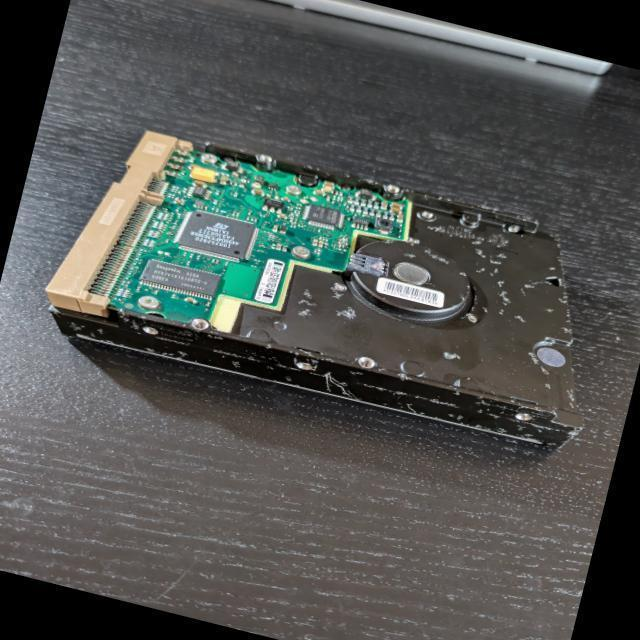DISK: (34, 106, 632, 464)
